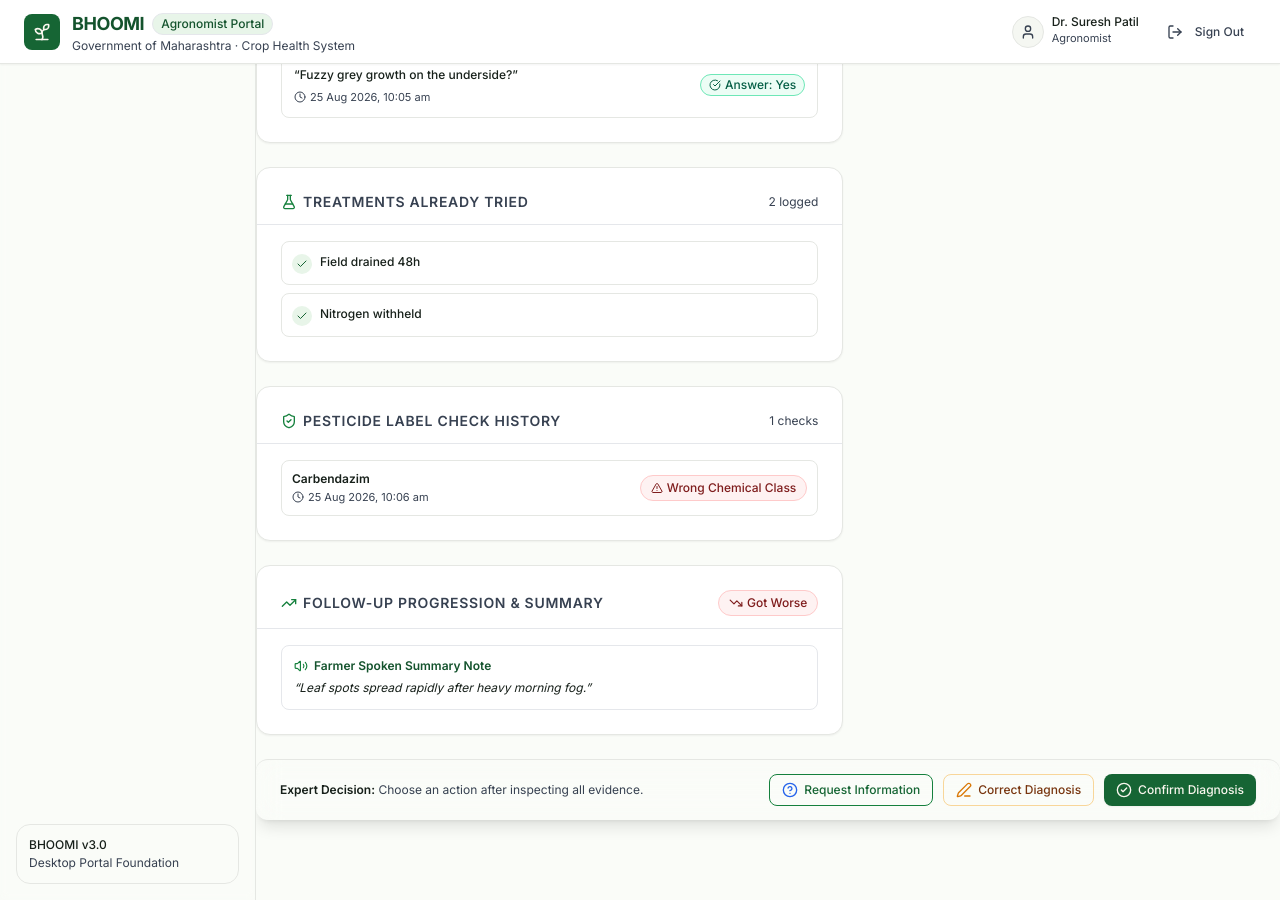
Test case: F12 — Agronomist Case Workspace Tests › disables all action buttons while a confirmation mutation is pending
(page scrolled)
Open confirm dialog and submit
What coordinates should you click on to do the following:
click the button "Confirm Diagnosis"
I would click on:
 (1180, 790)
Its box is 1104,774 -> 1256,806.
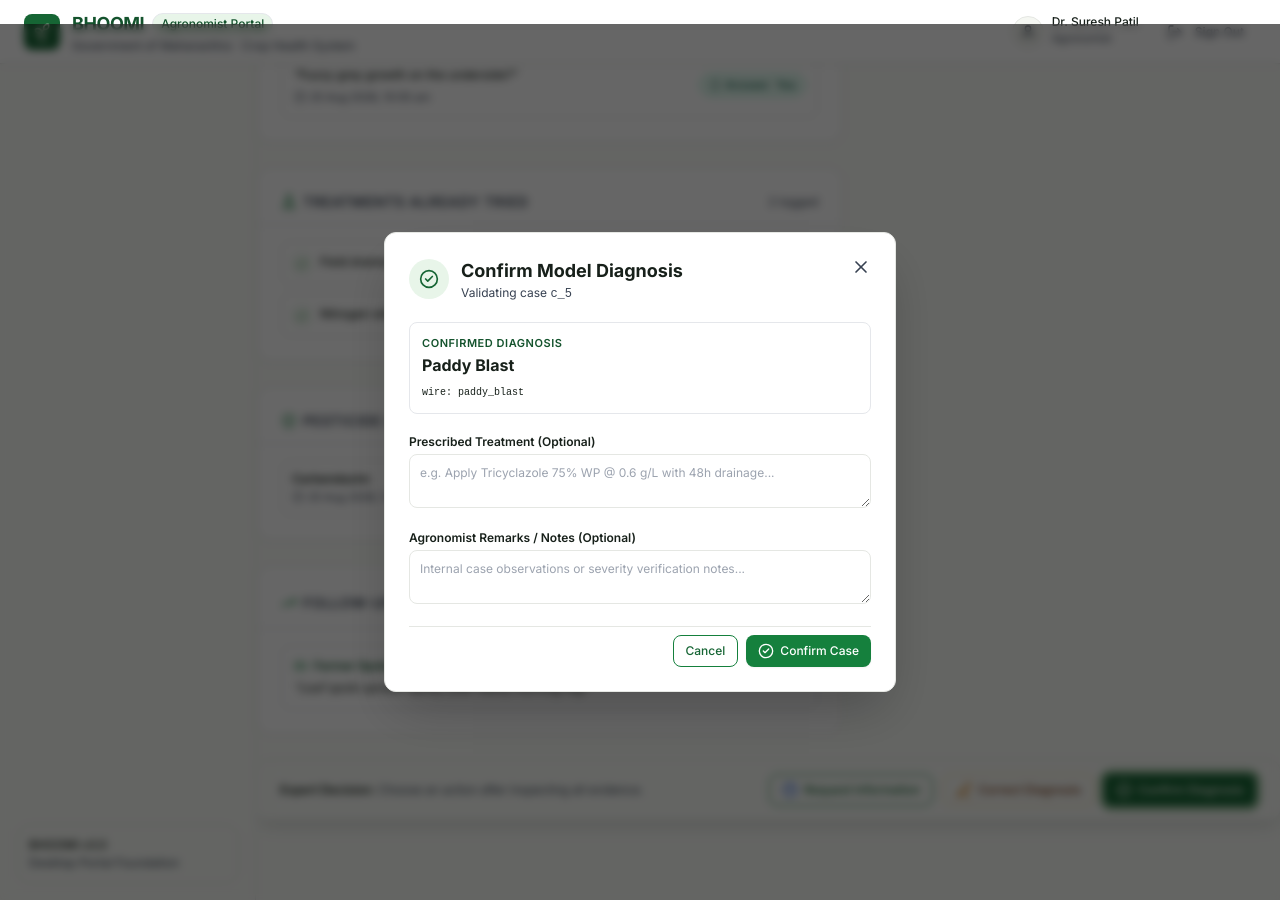
What coordinates should you click on to do the following:
click the button "Confirm Case"
I would click on:
 (809, 651)
Its box is 746,635 -> 871,667.
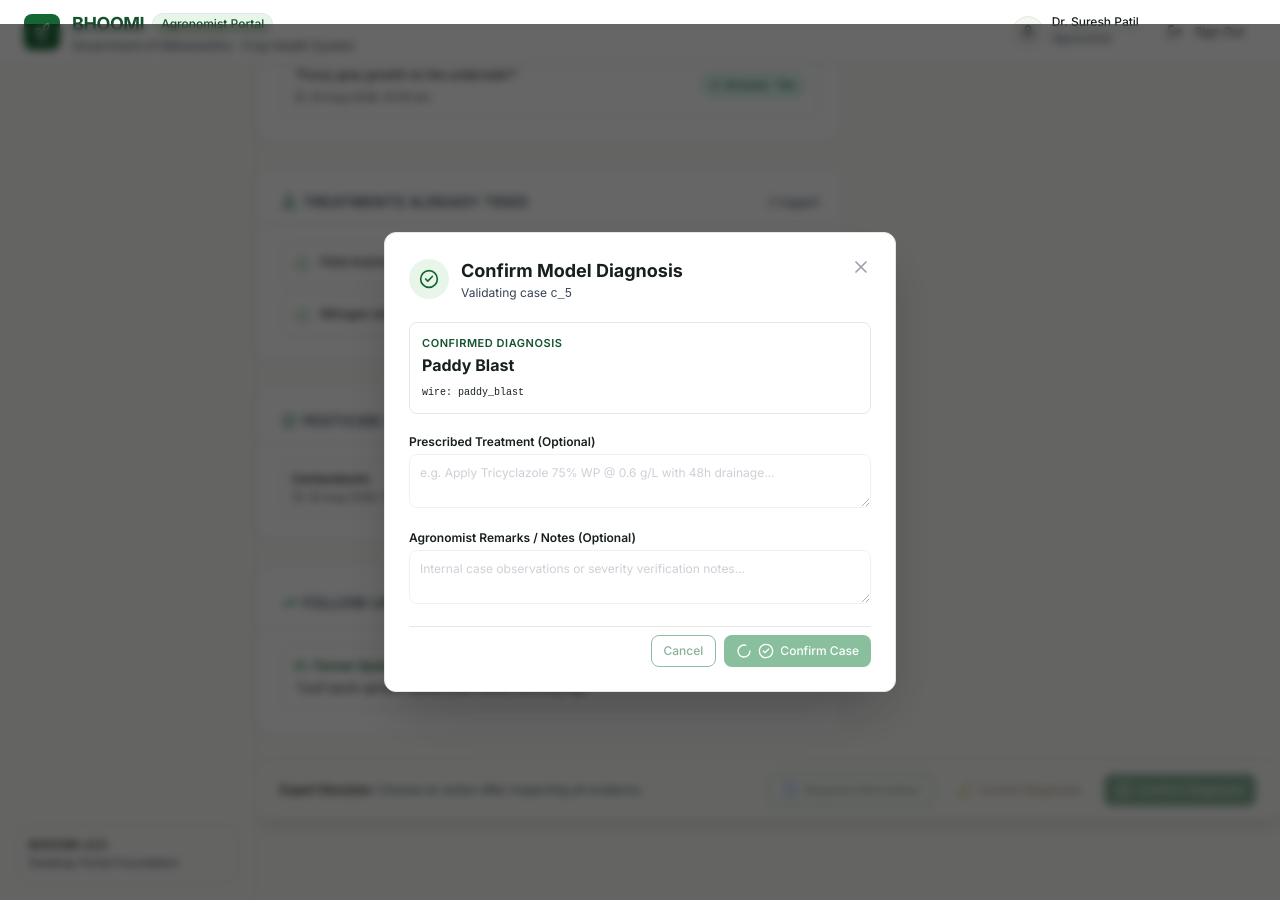
Expected: the button "Confirm Diagnosis" is disabled, 1104,774 -> 1256,806
